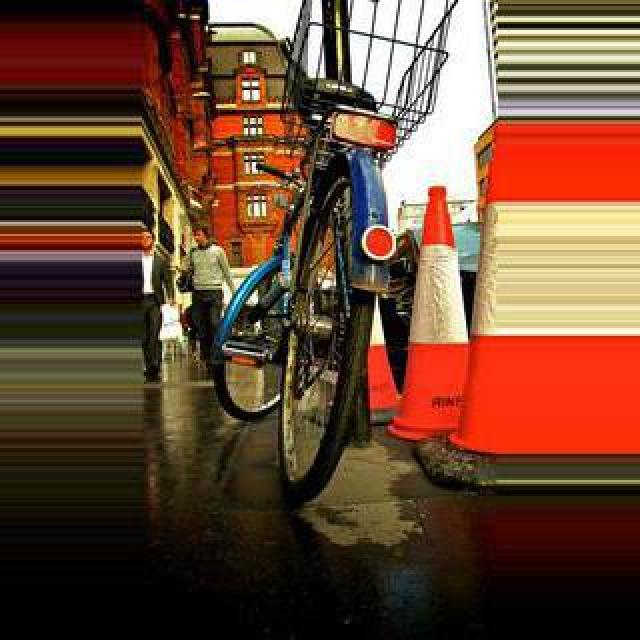MC-Bike: (182, 226, 236, 368)
Person: (208, 72, 400, 506)
